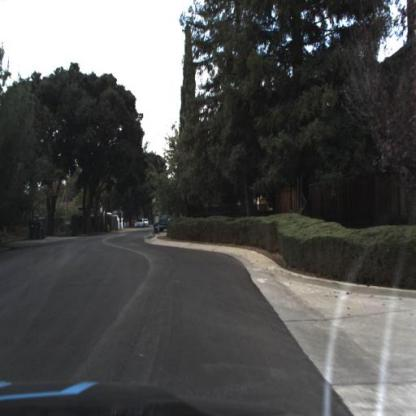car: (160, 200, 182, 234), (137, 220, 146, 229), (144, 220, 150, 228)
